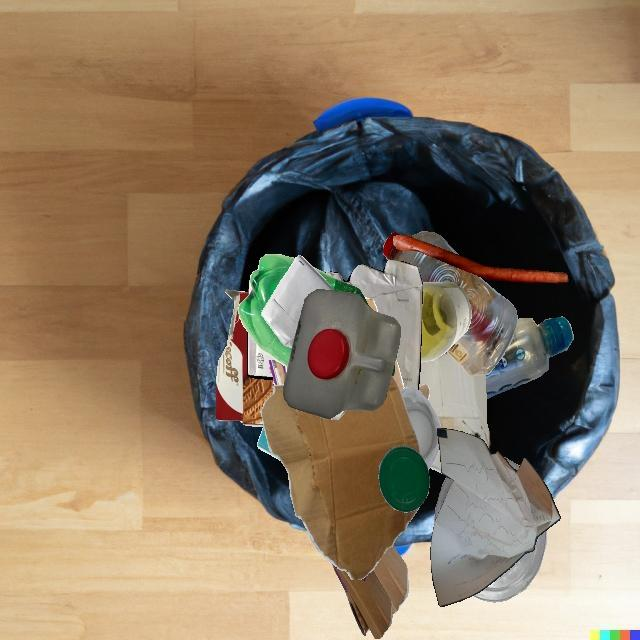biowaste: (393, 235, 569, 283)
cardboard: (260, 375, 420, 580), (269, 302, 395, 366), (216, 289, 274, 426), (419, 353, 491, 451), (332, 563, 392, 639), (373, 545, 409, 614)
glass: (421, 282, 472, 362)
paper: (430, 428, 561, 606), (325, 259, 423, 390), (248, 288, 359, 357), (261, 255, 335, 349), (257, 426, 280, 460)
plastic: (383, 232, 518, 376), (283, 289, 401, 420), (261, 275, 394, 366), (434, 459, 506, 584), (486, 317, 574, 399), (400, 387, 441, 470), (379, 446, 430, 512)
